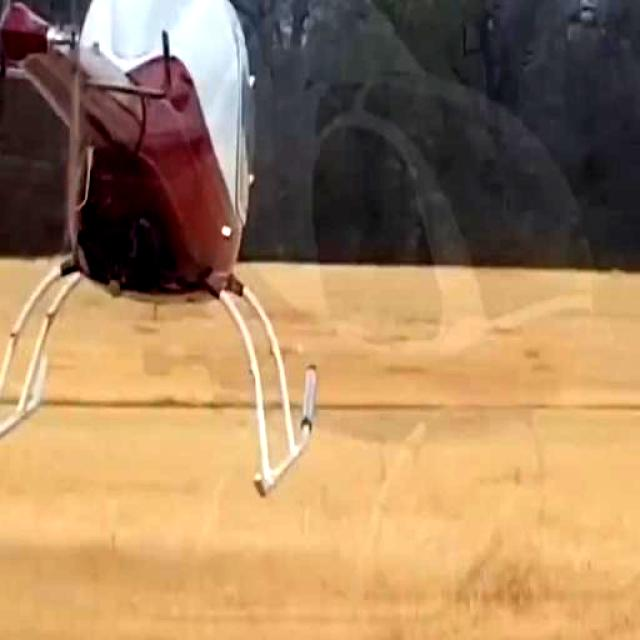drone: (0, 0, 321, 499)
